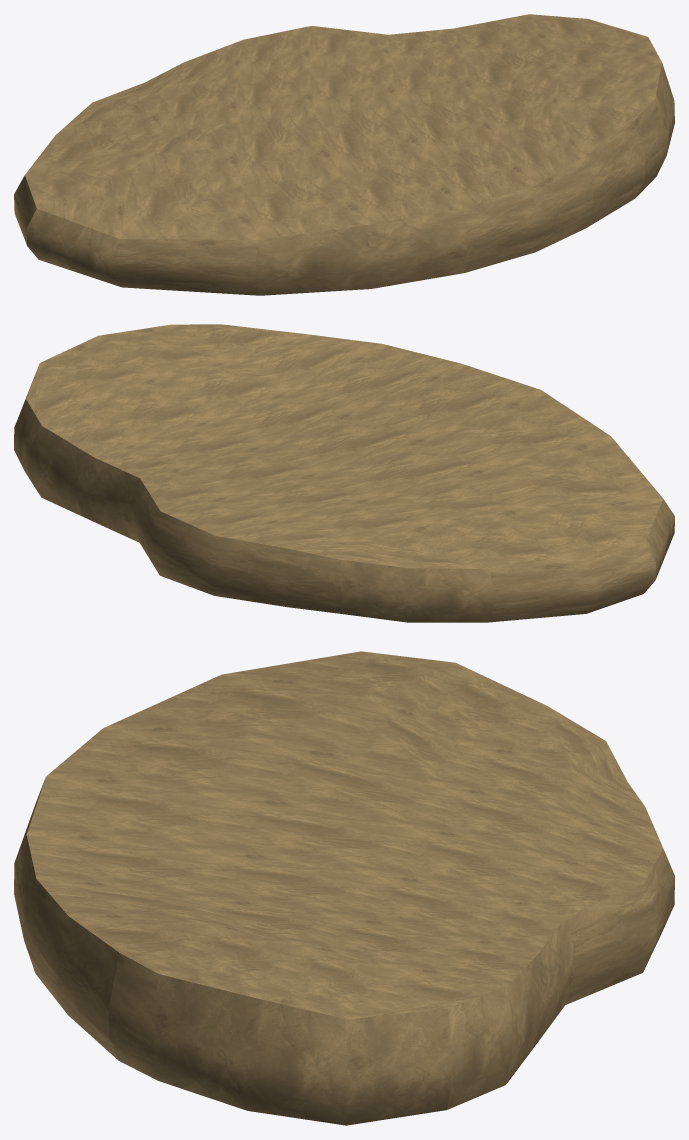
The model's file is GroundPlatform01.glb.
The picture shows the model from 3 angles, top to bottom: view 1: azimuth 30°, elevation 25°; view 2: azimuth 150°, elevation 25°; view 3: azimuth 270°, elevation 25°; orthographic projection. The views are drawn at different scales.
Parts seen in each view (by area): view 1: GroundPlatform01; view 2: GroundPlatform01; view 3: GroundPlatform01.
Part boxes in pixels (left/top/right/bottom): GroundPlatform01: left=14, top=14, right=674, bottom=295; GroundPlatform01: left=14, top=324, right=674, bottom=622; GroundPlatform01: left=14, top=651, right=674, bottom=1125.
Size of the model in its own units: 36.32 by 4.66 by 24.12.
Materials: 1 (1 with a texture image).
